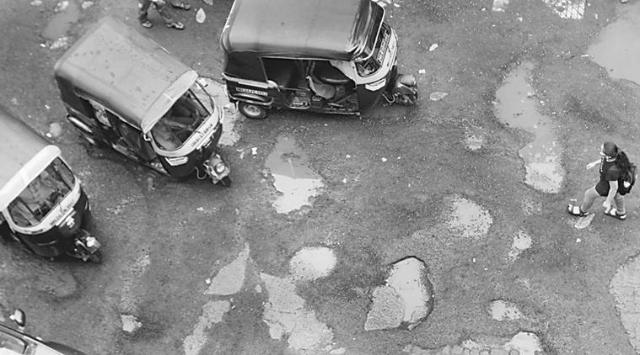Pothole: (181, 246, 354, 355), (484, 51, 574, 198), (360, 250, 444, 340), (258, 128, 324, 219), (416, 311, 550, 355), (586, 0, 640, 98), (602, 249, 640, 354), (446, 188, 498, 244), (504, 224, 548, 262), (118, 316, 150, 344)
